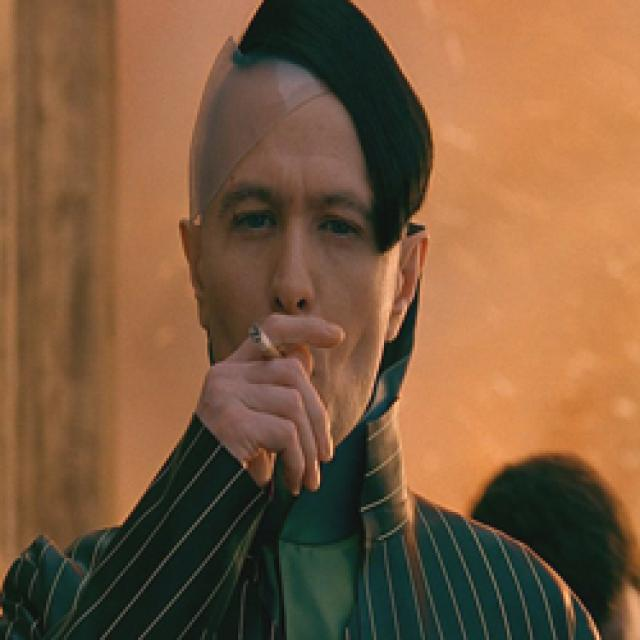Smooking: (232, 313, 281, 365)
